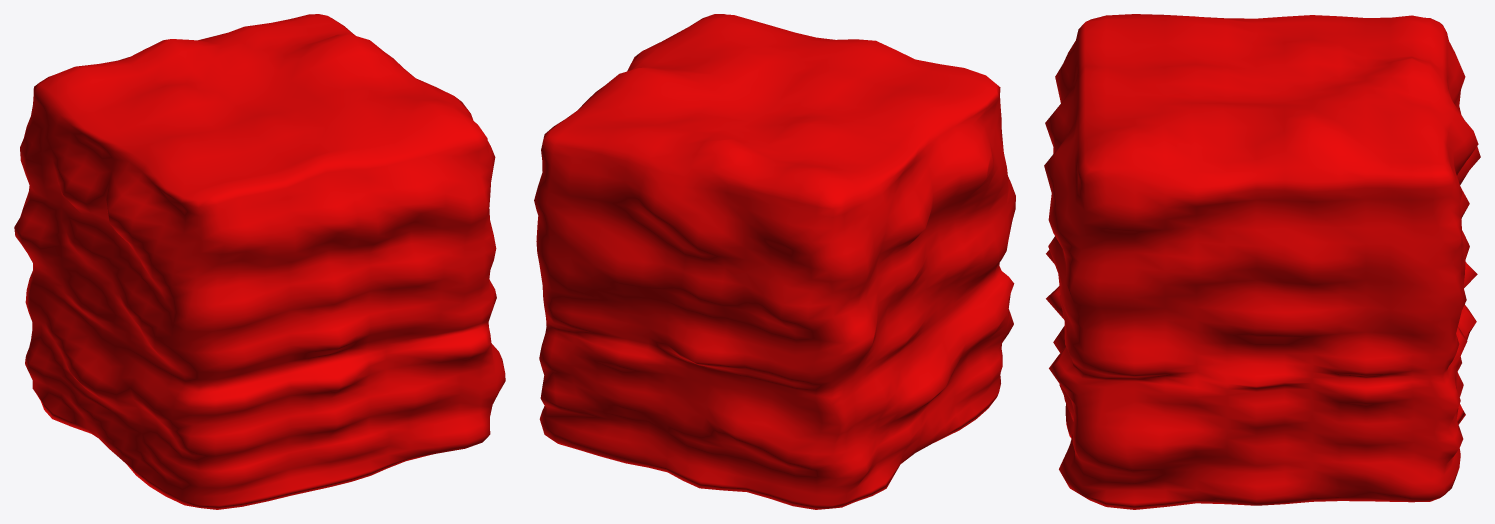
The model's file is PLASTIC BILES.fbx.
3 views of the same model, side by side, from view 1: azimuth 30°, elevation 25°; view 2: azimuth 150°, elevation 25°; view 3: azimuth 270°, elevation 25° (orthographic). The views are drawn at different scales.
Visible parts, largest first — view 1: pCube1; view 2: pCube1; view 3: pCube1.
Part boxes in pixels (left/top/right/bottom): pCube1: left=14, top=14, right=505, bottom=509; pCube1: left=534, top=14, right=1015, bottom=509; pCube1: left=1044, top=14, right=1480, bottom=509.
Size of the model in its own units: 0.634 by 0.5647 by 0.6138.
